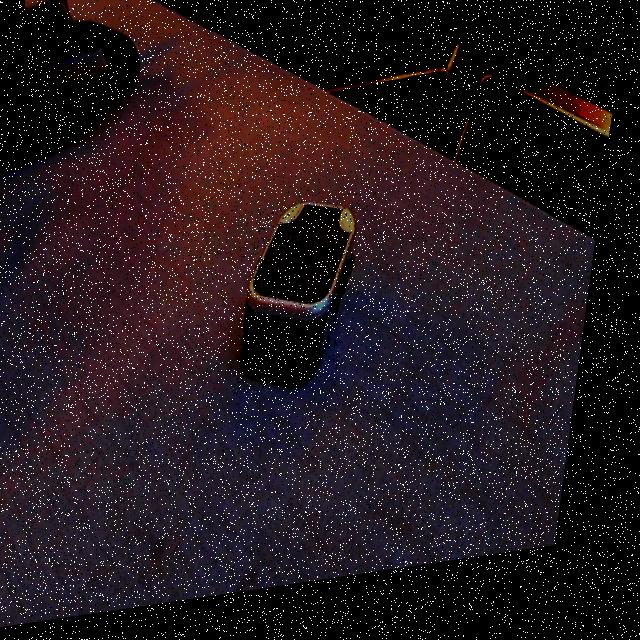adapter: (244, 203, 370, 406)
